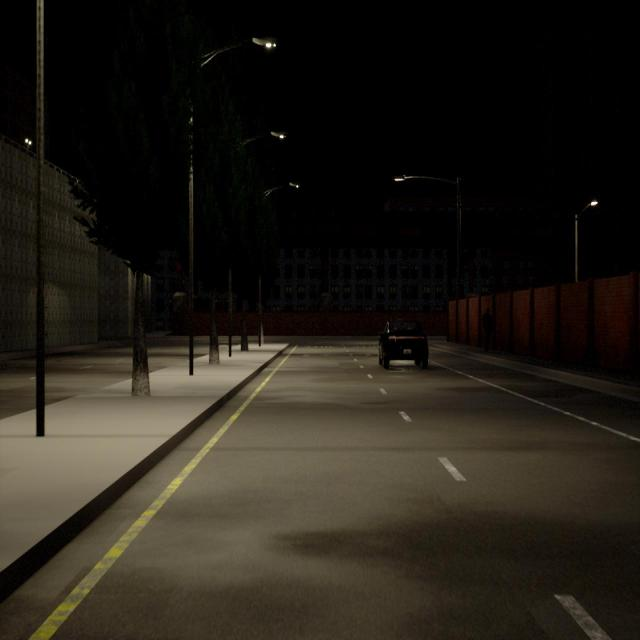Pedestrian: (481, 308, 494, 352)
Vehicle: (378, 319, 428, 367)
